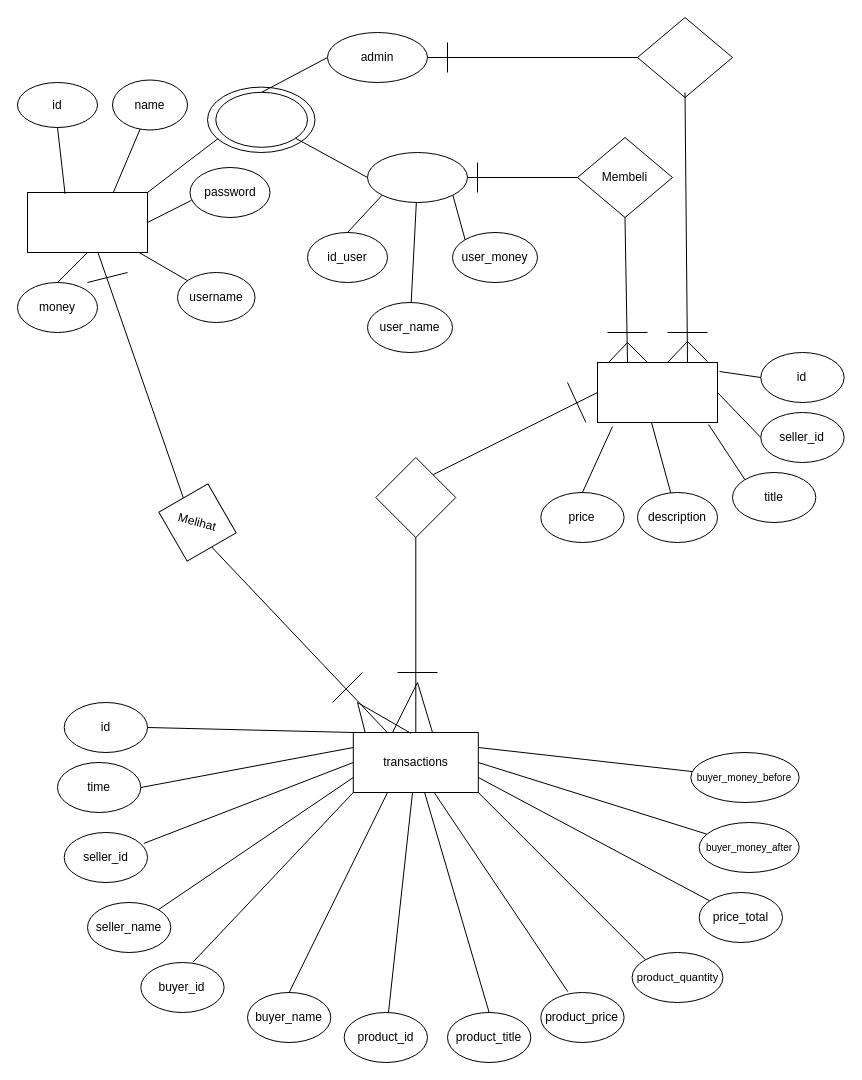
The diagram is 862 pixels wide and 1080 high, and some of its shapes have lost their labels. Here are the shapes that lost their labels. From the top down, the box of each, then its label:
(636, 16, 732, 98): Membuat
(215, 91, 308, 147): role
(366, 152, 468, 202): user
(26, 192, 148, 252): users
(596, 362, 718, 422): products
(375, 456, 456, 538): Mencatat
